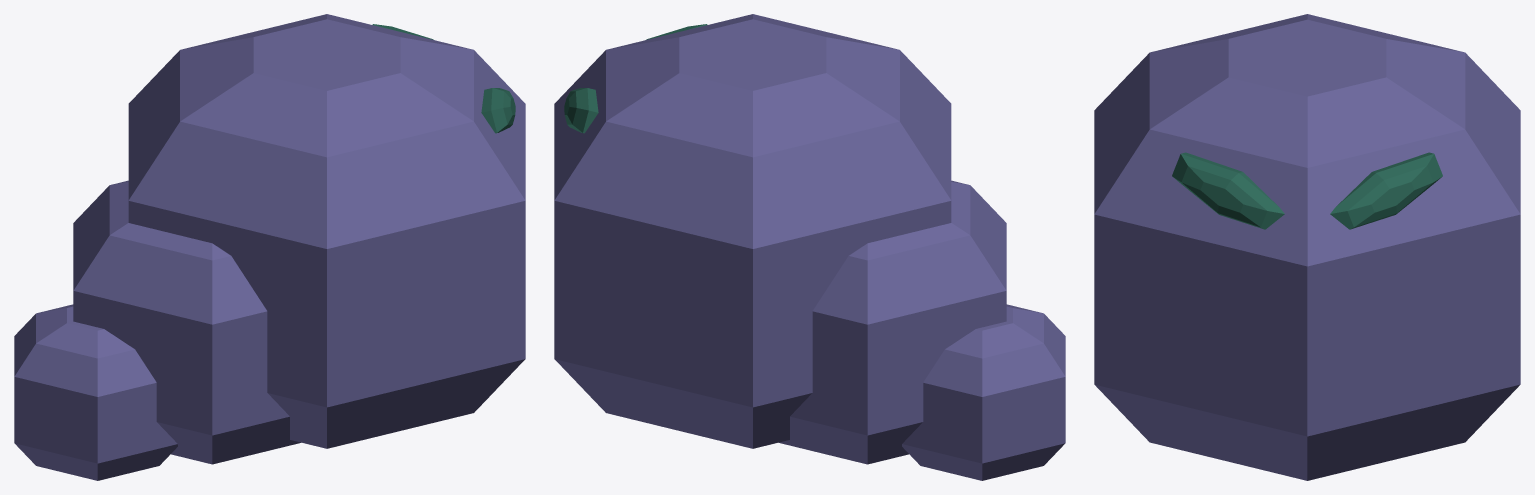
File: leapstone.glb
The picture shows the model from 3 angles, left to right: view 1: azimuth 30°, elevation 25°; view 2: azimuth 150°, elevation 25°; view 3: azimuth 270°, elevation 25°; orthographic projection. The views are drawn at different scales.
Visible parts, largest first — view 1: meteor (×3), meteor_half; view 2: meteor (×3), meteor_half; view 3: meteor, meteor_half (×2).
Boxes of the visible parts, x1,y1,x2,y2 form: meteor (×3): [14, 14, 525, 480]; meteor_half: [481, 88, 515, 133]; meteor (×3): [554, 14, 1065, 480]; meteor_half: [564, 88, 598, 133]; meteor: [1094, 14, 1520, 480]; meteor_half (×2): [1172, 152, 1442, 229].
Size of the model in its own units: 0.8919 by 0.588 by 0.6.
